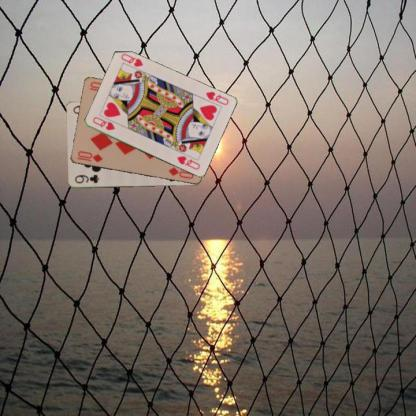10d: (74, 148, 104, 164)
9c: (72, 172, 101, 185)
Qh: (90, 114, 116, 132), (203, 89, 230, 106)
